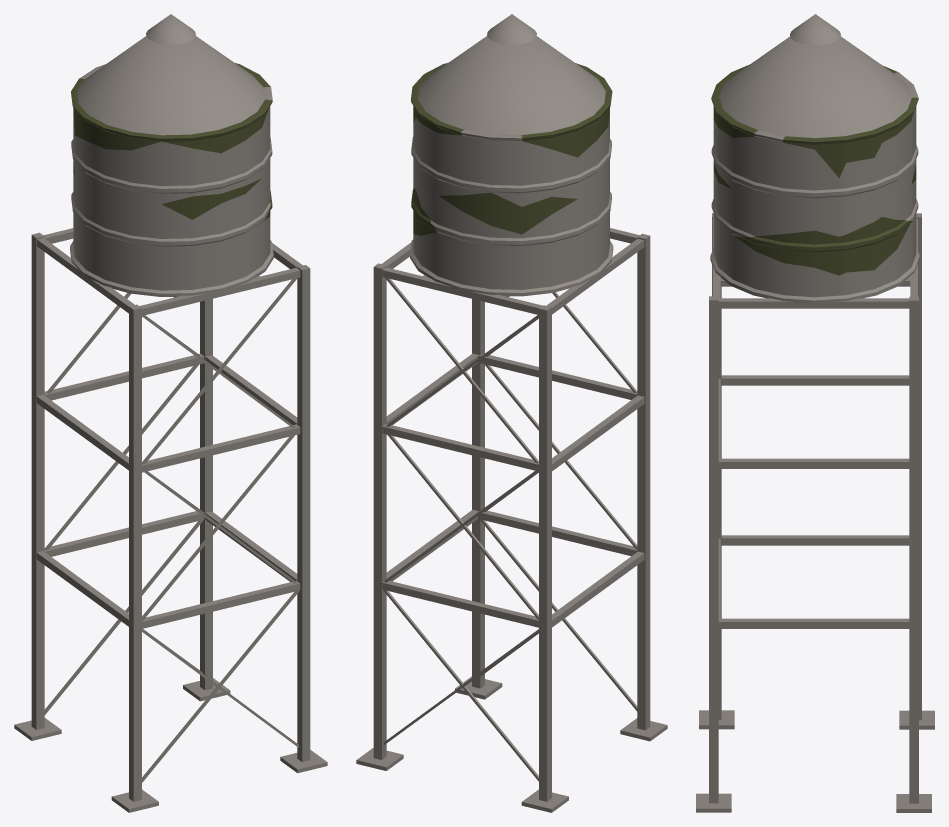
File: prop_watertower.glb
3 views of the same model, side by side, from view 1: azimuth 30°, elevation 25°; view 2: azimuth 150°, elevation 25°; view 3: azimuth 270°, elevation 25° (orthographic). The views are drawn at different scales.
Visible parts, largest first — view 1: WaterTower; view 2: WaterTower; view 3: WaterTower.
Boxes of the visible parts, x1,y1,x2,y2 form: WaterTower: (14,14,327,812); WaterTower: (356,14,667,812); WaterTower: (696,14,934,812).
Size of the model in its own units: 2.65 by 9.38 by 2.71.
Materials: 1 (1 with a texture image).
